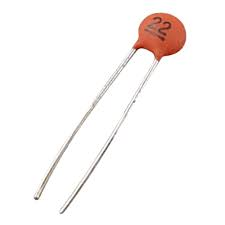ceramic capacitor: (109, 5, 207, 91)
